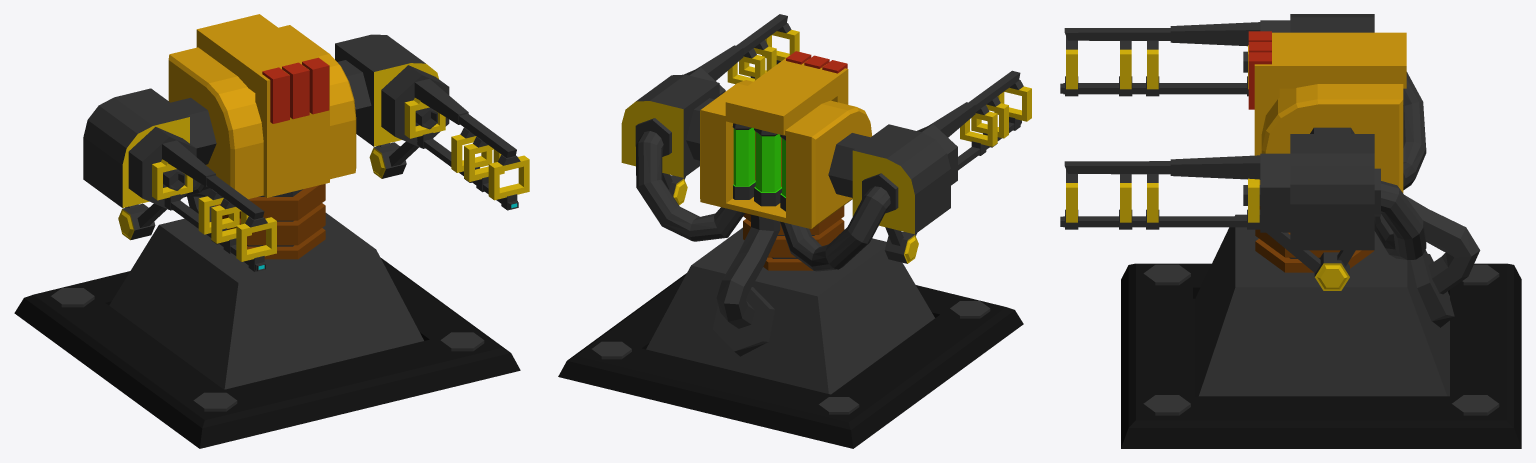
Rendered from scene_TvQTP9sNXz.glb.
3 views of the same model, side by side, from view 1: azimuth 30°, elevation 25°; view 2: azimuth 150°, elevation 25°; view 3: azimuth 270°, elevation 25° (orthographic). The views are drawn at different scales.
Parts seen in each view (by area): view 1: MiddlePlasmaTurret1, GunPlasmaTurret1, BasePlasmaTurret1, StoragePlasmaTurret1; view 2: GunPlasmaTurret1, MiddlePlasmaTurret1, BasePlasmaTurret1, StoragePlasmaTurret1, PlasmaAmmoPlasmaTurret1; view 3: BasePlasmaTurret1, MiddlePlasmaTurret1, GunPlasmaTurret1, StoragePlasmaTurret1.
Boxes of the visible parts, x1,y1,x2,y2 form: MiddlePlasmaTurret1: (109,184,423,389); GunPlasmaTurret1: (83,34,529,271); BasePlasmaTurret1: (14,257,520,448); StoragePlasmaTurret1: (168,14,356,199); GunPlasmaTurret1: (621,14,1031,271); MiddlePlasmaTurret1: (646,205,934,394); BasePlasmaTurret1: (558,273,1023,448); StoragePlasmaTurret1: (700,51,872,228); PlasmaAmmoPlasmaTurret1: (732,123,785,211); BasePlasmaTurret1: (1121,263,1521,448); MiddlePlasmaTurret1: (1195,195,1480,396); GunPlasmaTurret1: (1063,14,1426,290); StoragePlasmaTurret1: (1248,31,1406,192).
Size of the model in its own units: 3.24 by 2.84 by 3.74.
